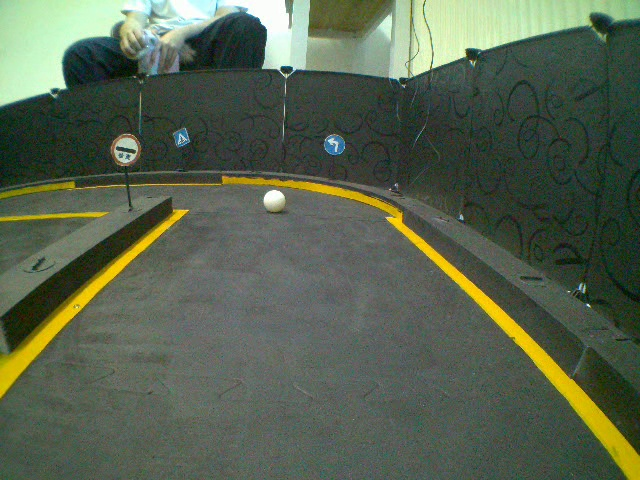ball: (262, 188, 287, 214)
